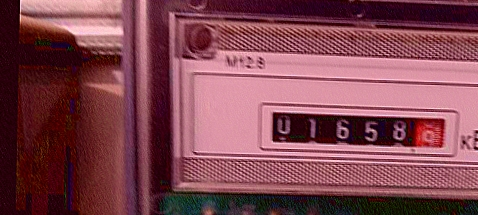0: (274, 114, 292, 135)
1: (304, 116, 319, 140)
5: (362, 119, 379, 143)
6: (333, 117, 352, 142)
8: (390, 120, 408, 142)
9: (419, 128, 435, 149)
screen: (255, 100, 462, 162)
